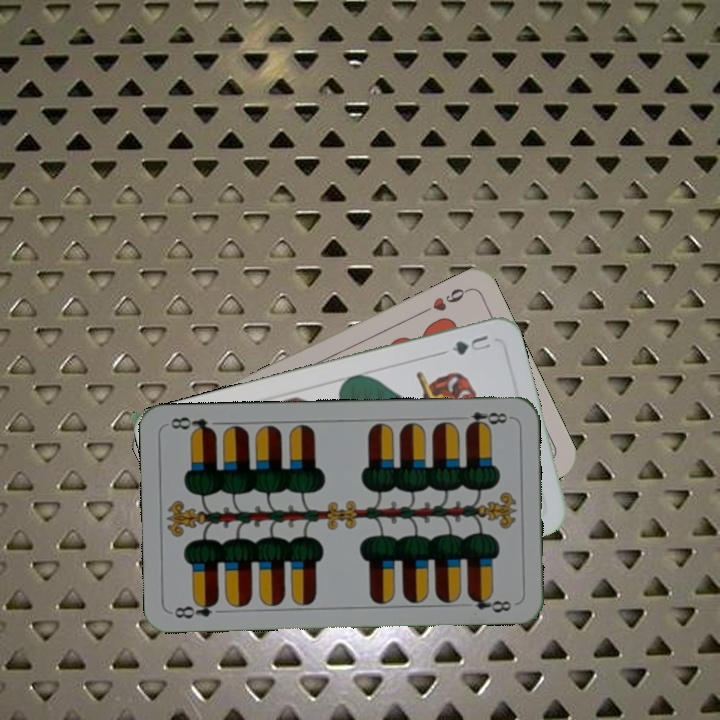E8: (170, 596, 221, 622), (462, 408, 513, 431)
GU: (447, 331, 495, 358)
H9: (416, 284, 471, 317)
